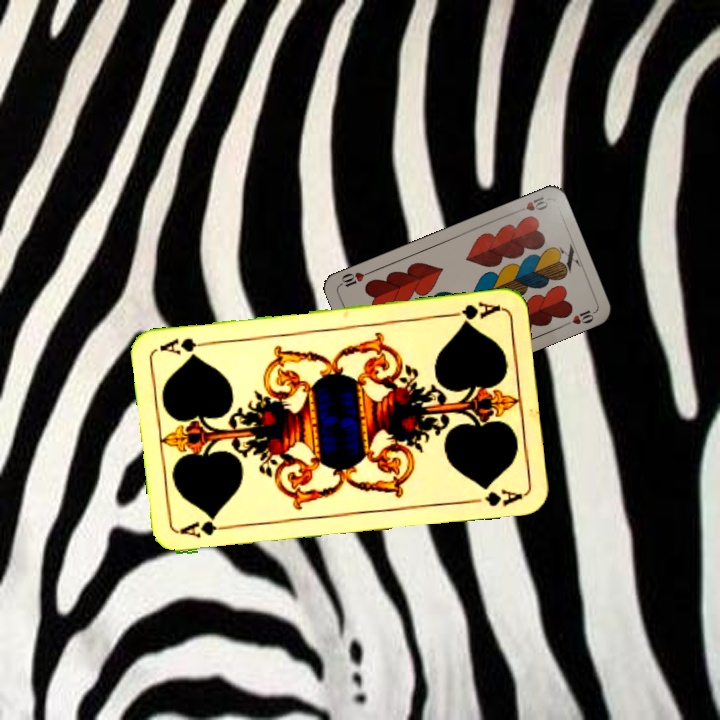GA: (443, 297, 502, 327), (176, 516, 235, 541)
H10: (511, 192, 551, 216)
